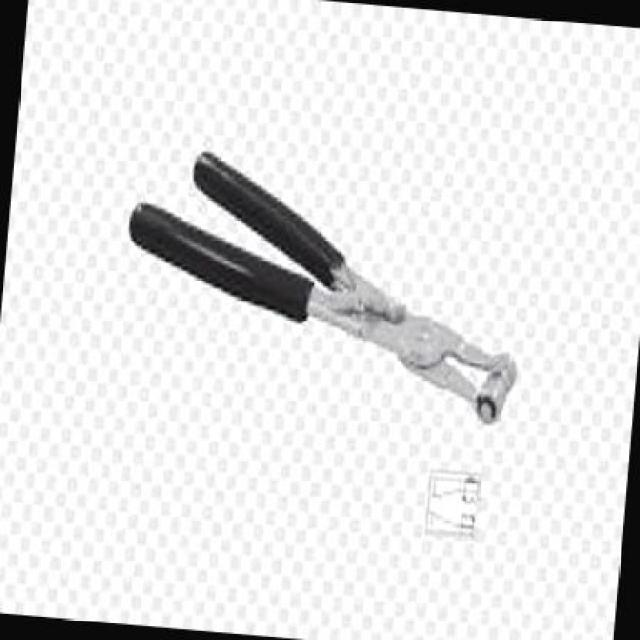pliers: (89, 121, 562, 450)
